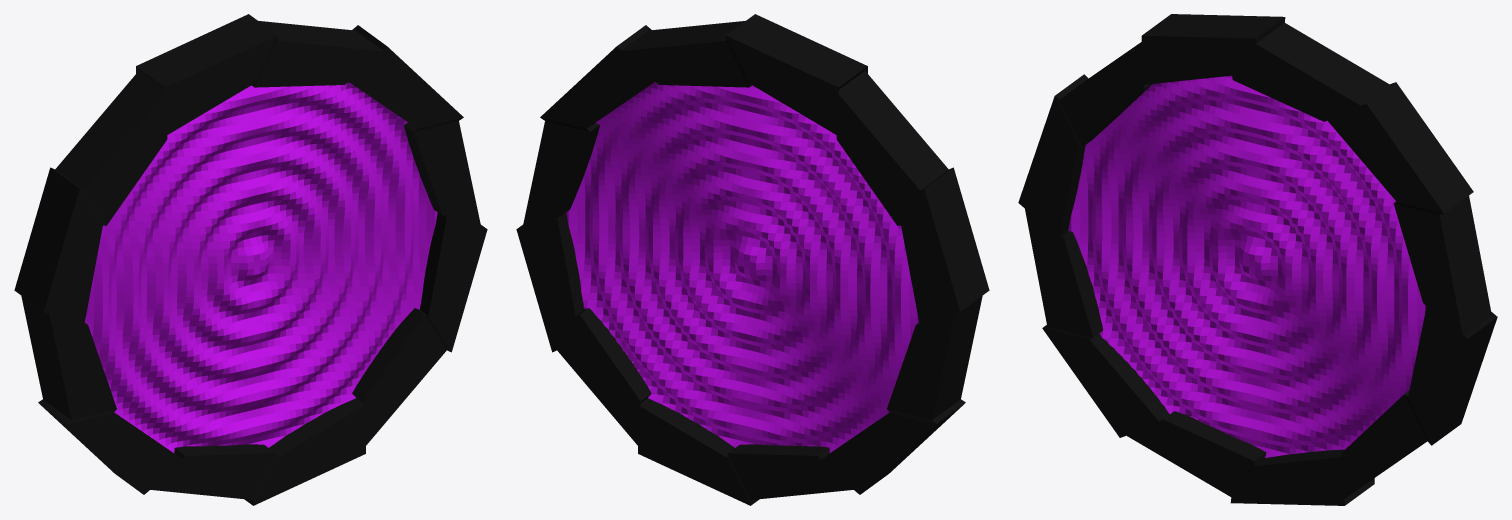
The model's file is portal.fbx.
3 renders of one model, left to right at view 1: azimuth 30°, elevation 25°; view 2: azimuth 150°, elevation 25°; view 3: azimuth 330°, elevation 25°, orthographic.
Parts seen in each view (by area): view 1: Plane, Cube; view 2: Plane.001, Cube; view 3: Plane, Cube.
Part boxes in pixels (bbox=[...]): Plane: bbox=[85, 82, 437, 452]; Cube: bbox=[14, 14, 487, 505]; Plane.001: bbox=[566, 82, 918, 452]; Cube: bbox=[516, 14, 989, 505]; Plane: bbox=[1068, 75, 1426, 457]; Cube: bbox=[1018, 14, 1497, 505].
Bounding box in the file's own units: 454 × 454 × 51.97.
